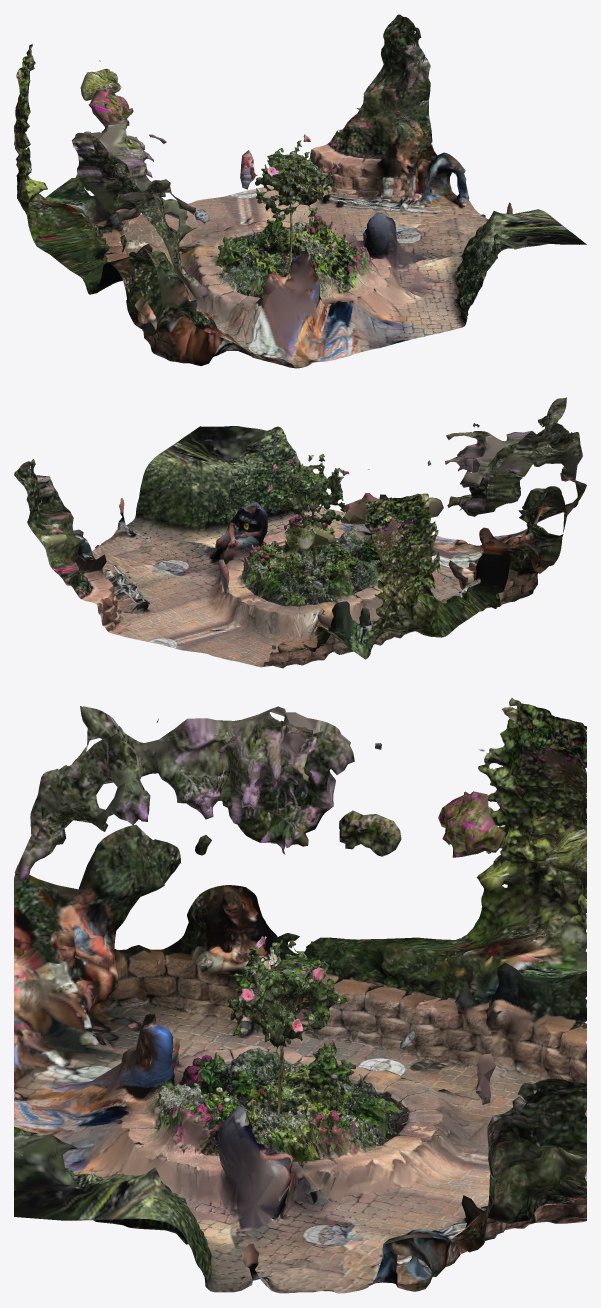
File: Butterfly tree.obj
3 views of the same model, one above another, from view 1: azimuth 30°, elevation 25°; view 2: azimuth 150°, elevation 25°; view 3: azimuth 270°, elevation 25° (orthographic). The views are drawn at different scales.
Visible parts, largest first — view 1: Object; view 2: Object; view 3: Object.
Boxes of the visible parts, x1,y1,x2,y2 form: Object: [14, 14, 586, 368]; Object: [14, 397, 586, 668]; Object: [14, 698, 586, 1293].
Size of the model in its own units: 2.22 by 1.07 by 1.81.
Materials: 1 (1 with a texture image).
